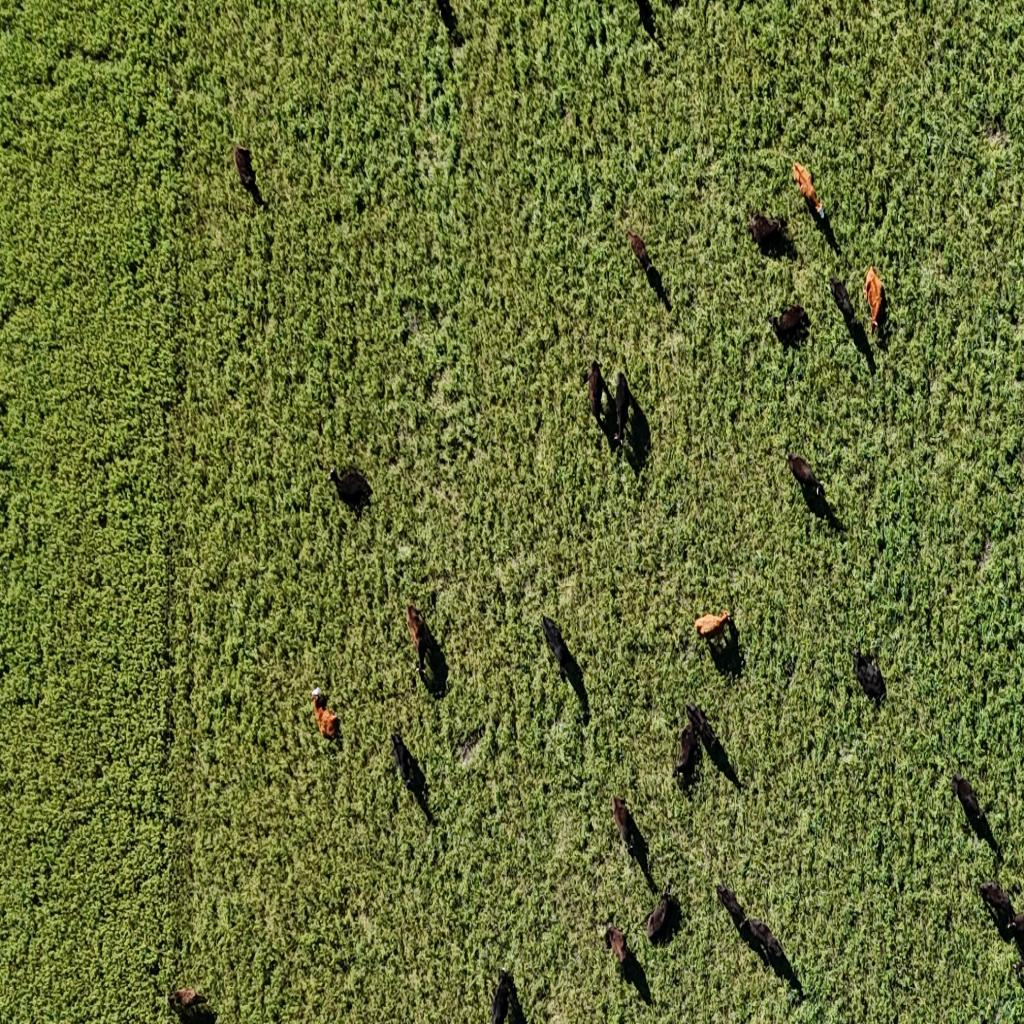cow: (540, 614, 574, 686), (406, 604, 437, 680), (794, 160, 828, 226), (328, 463, 372, 513), (853, 644, 887, 704), (390, 730, 419, 796), (745, 918, 782, 968), (646, 888, 676, 947), (612, 796, 640, 859), (166, 985, 213, 1022), (862, 266, 886, 338), (979, 880, 1016, 926), (715, 883, 749, 932), (770, 304, 810, 345), (828, 277, 858, 331), (673, 728, 699, 789), (312, 684, 340, 740), (786, 453, 822, 496), (802, 478, 834, 526), (748, 211, 785, 252), (693, 609, 730, 650), (626, 228, 654, 278), (614, 372, 632, 449), (601, 922, 631, 968), (951, 772, 980, 816), (588, 360, 607, 419), (232, 143, 255, 190), (490, 972, 508, 1023), (508, 976, 527, 1024), (686, 702, 706, 742), (575, 691, 591, 728), (1013, 918, 1024, 966)
